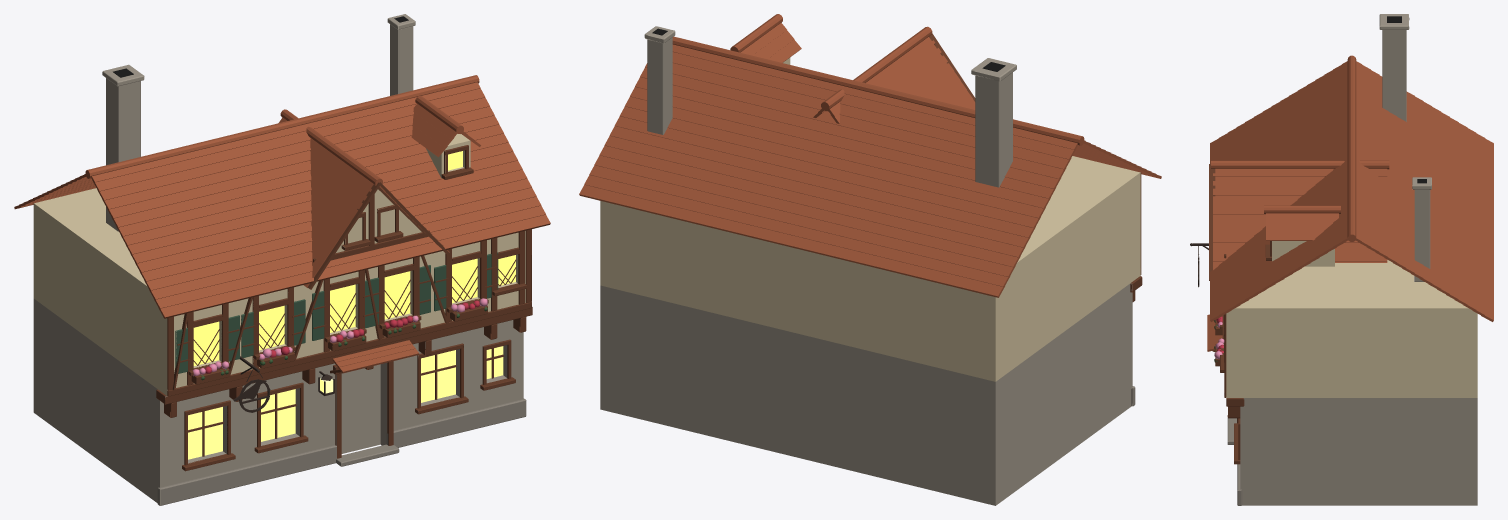
File: taberna_ligero.glb
3 renders of one model, left to right at view 1: azimuth 30°, elevation 25°; view 2: azimuth 150°, elevation 25°; view 3: azimuth 270°, elevation 25°, orthographic. The views are drawn at different scales.
Parts seen in each view (by area): view 1: pb_dentro, pa_dentro, tejado_s_0, tejado_s_14, tejado_s_13, tejado_s_1, tejado_s_12, zocalo, tejado_s_11, tejado_s_6, tejado_s_5, tejado_cumbrera (+44 smaller); view 2: pb_dentro, pa_dentro, tejado_n_0, tejado_n_4, tejado_n_5, tejado_n_3, tejado_n_6, tejado_n_1, tejado_n_2, tejado_n_7, tejado_n_8, tejado_n_9 (+15 smaller); view 3: pa_dentro, pb_dentro, chimenea, tejado_cumbrera, tejado_n_2, tejado_n_1, tejado_n_6, tejado_n_0, tejado_n_3, tejado_n_5, tejado_n_4, tejado_n_9 (+45 smaller).
Part boxes in pixels (bbox=[...]): pb_dentro: bbox=[33, 299, 380, 499]; pa_dentro: bbox=[33, 188, 161, 391]; tejado_s_0: bbox=[158, 214, 550, 318]; tejado_s_14: bbox=[93, 88, 484, 191]; tejado_s_13: bbox=[97, 97, 489, 200]; tejado_s_1: bbox=[153, 205, 545, 308]; tejado_s_12: bbox=[102, 106, 494, 209]; zocalo: bbox=[157, 445, 336, 505]; tejado_s_11: bbox=[107, 115, 498, 218]; tejado_s_6: bbox=[130, 160, 522, 263]; tejado_s_5: bbox=[135, 169, 527, 272]; tejado_cumbrera: bbox=[85, 75, 479, 178]; pb_dentro: bbox=[600, 285, 1125, 505]; pa_dentro: bbox=[600, 161, 1134, 381]; tejado_n_0: bbox=[579, 185, 1005, 297]; tejado_n_4: bbox=[599, 145, 1025, 257]; tejado_n_5: bbox=[604, 136, 1030, 248]; tejado_n_3: bbox=[594, 155, 1020, 267]; tejado_n_6: bbox=[609, 126, 1035, 237]; tejado_n_1: bbox=[584, 175, 1010, 286]; tejado_n_2: bbox=[589, 165, 1015, 276]; tejado_n_7: bbox=[614, 116, 1040, 228]; tejado_n_8: bbox=[620, 106, 1045, 218]; tejado_n_9: bbox=[625, 96, 1050, 208]; pa_dentro: bbox=[1236, 260, 1477, 397]; pb_dentro: bbox=[1253, 398, 1477, 505]; chimenea: bbox=[1382, 30, 1406, 121]; tejado_cumbrera: bbox=[1347, 55, 1356, 241]; tejado_n_2: bbox=[1463, 128, 1476, 310]; tejado_n_1: bbox=[1472, 133, 1485, 315]; tejado_n_6: bbox=[1428, 107, 1441, 289]; tejado_n_0: bbox=[1481, 138, 1493, 321]; tejado_n_3: bbox=[1455, 123, 1467, 305]; tejado_n_5: bbox=[1437, 112, 1449, 294]; tejado_n_4: bbox=[1446, 117, 1458, 299]; tejado_n_9: bbox=[1402, 91, 1414, 273].
Size of the model in its own units: 10.7 by 9.48 by 7.69.
